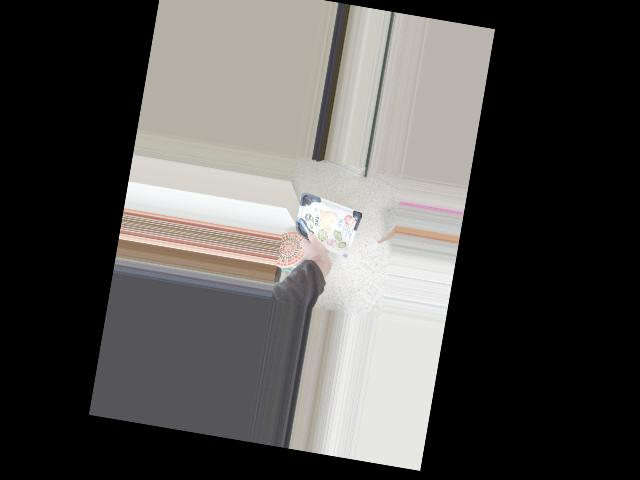cheese: (300, 209, 355, 266)
